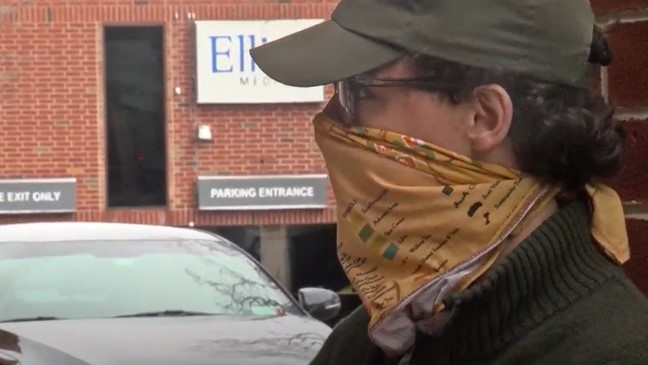face_with_mask: (304, 3, 569, 258)
